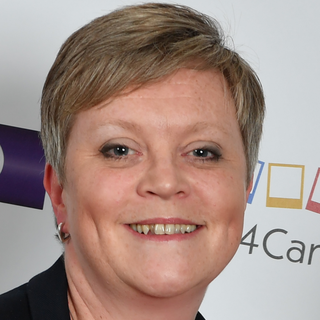eye: (91, 136, 147, 166), (176, 136, 226, 167)
